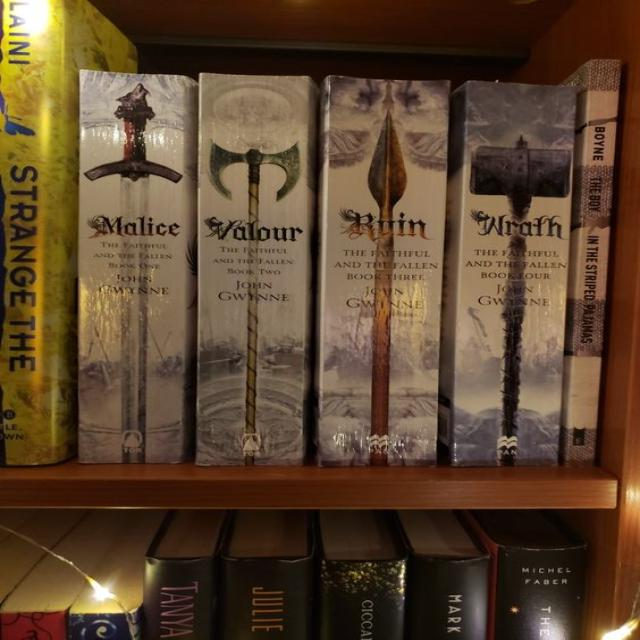book: (321, 75, 449, 466), (455, 82, 575, 465), (196, 74, 309, 466), (79, 71, 183, 462), (0, 0, 62, 466), (565, 59, 622, 466)
